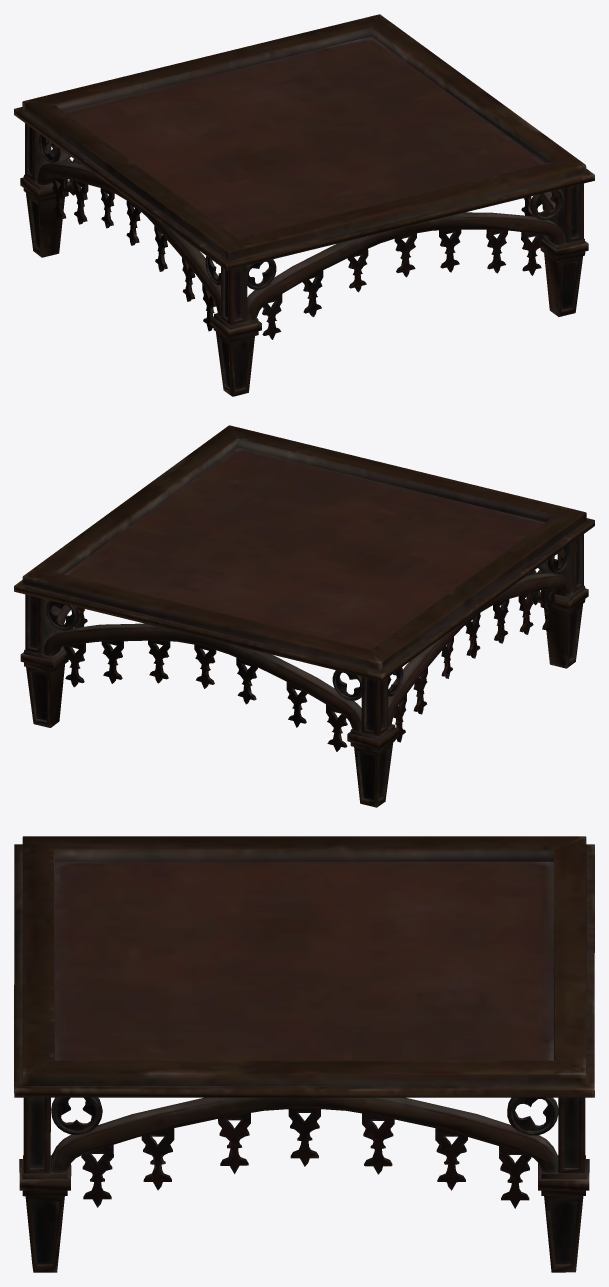
The model's file is gothic_coffee_table.d869d69e.glb.
3 views of the same model, one above another, from view 1: azimuth 30°, elevation 25°; view 2: azimuth 150°, elevation 25°; view 3: azimuth 270°, elevation 25° (orthographic). The views are drawn at different scales.
Parts seen in each view (by area): view 1: gothic_coffee_table; view 2: gothic_coffee_table; view 3: gothic_coffee_table.
Part boxes in pixels (<box>): gothic_coffee_table: <box>14,14,594,396</box>; gothic_coffee_table: <box>14,425,594,807</box>; gothic_coffee_table: <box>14,836,594,1272</box>.
Size of the model in its own units: 0.7198 by 0.2786 by 0.72.
Materials: 1 (1 with a texture image).
